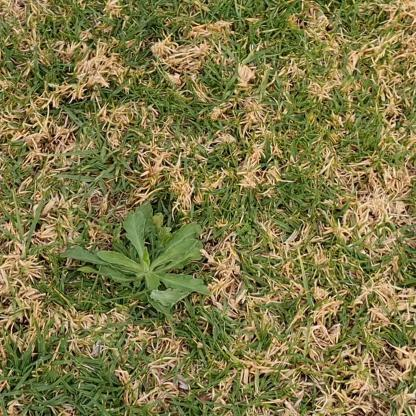Weeds: (60, 203, 211, 318)
